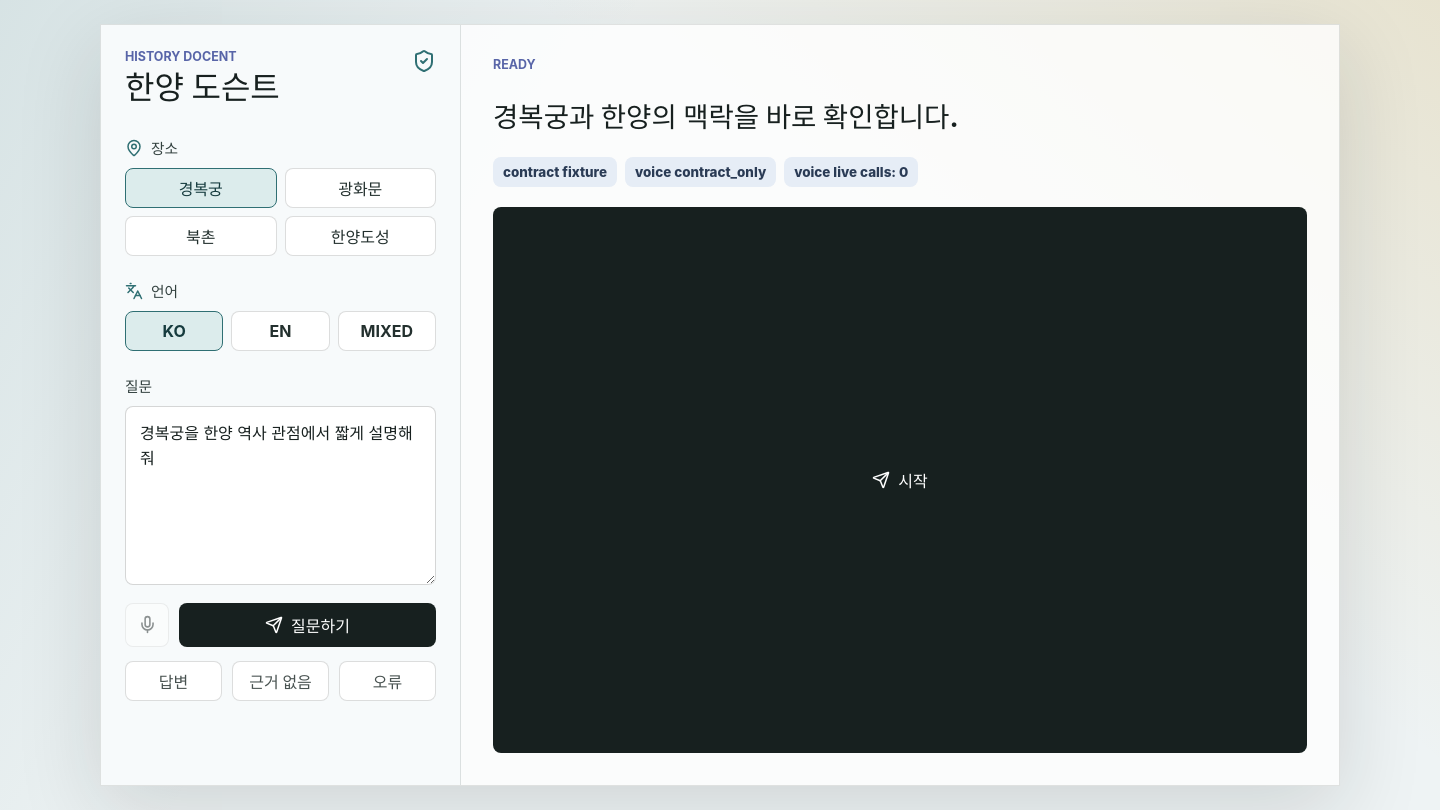
Test: History Docent voice UI skeleton › renders answerable fixture with spoken answer and citations
Click the button "시작".
click(542, 480)  # box [493,207,1307,753]
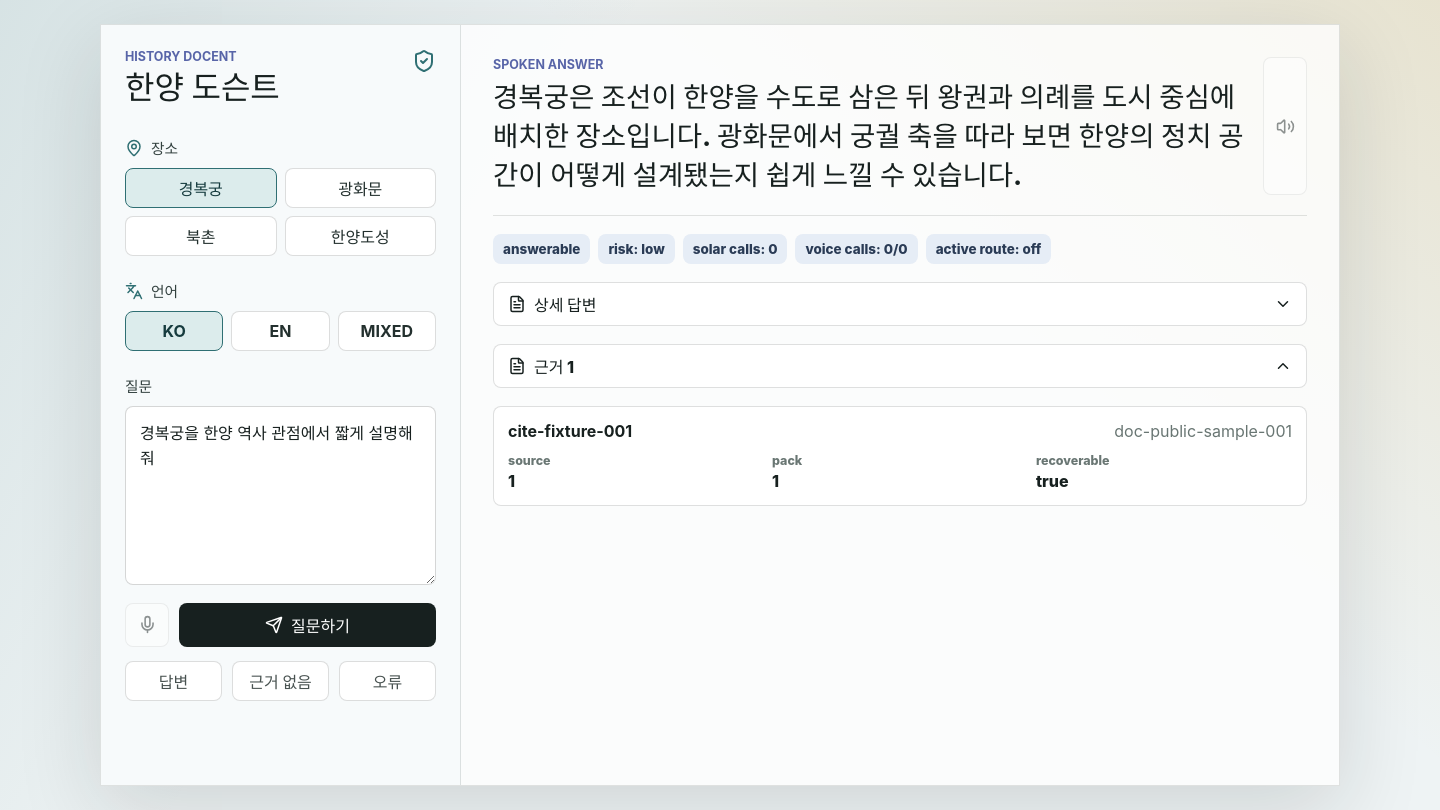
Result: the text "Spoken answer" is shown at [493,57,604,72]
Result: the heading "경복궁은 조선이 한양을 수도로 삼은 뒤" is shown at [493,80,1244,192]
Result: the text "근거 1" is shown at [534,354,574,378]
